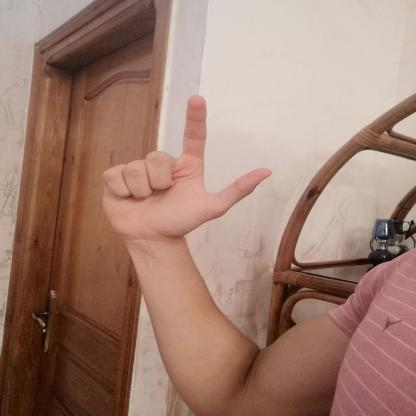LAAM: (85, 85, 283, 248)
